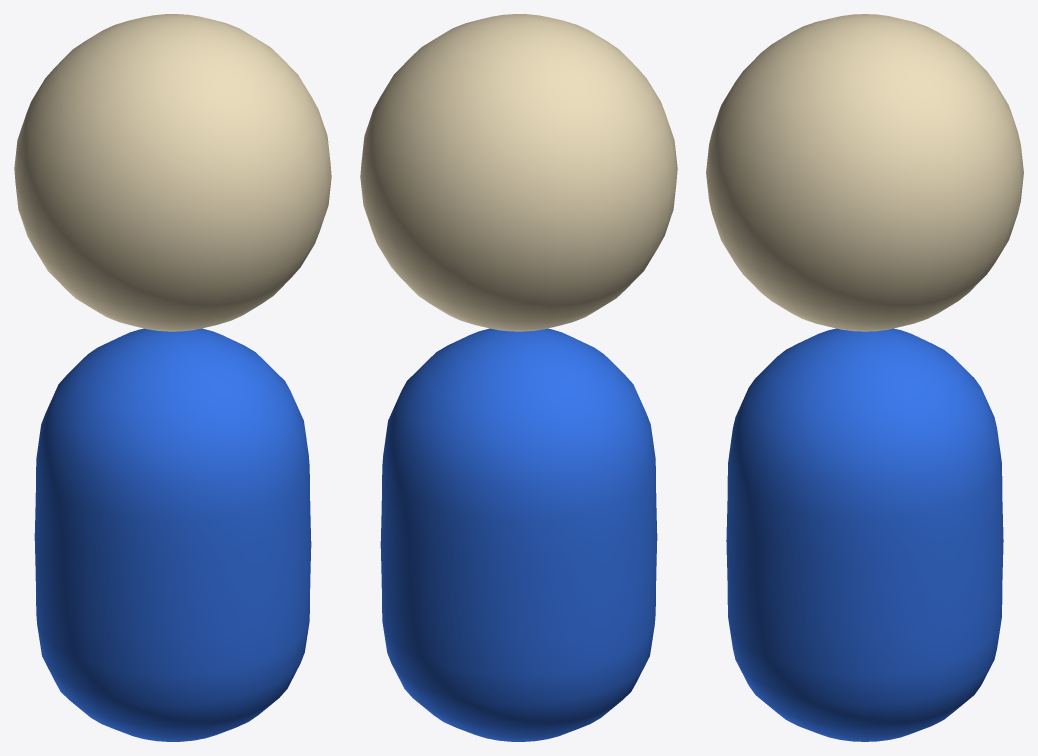
Rendered from Person-transformed.glb.
3 renders of one model, left to right at view 1: azimuth 30°, elevation 25°; view 2: azimuth 150°, elevation 25°; view 3: azimuth 270°, elevation 25°, orthographic.
Parts seen in each view (by area): view 1: Dude; view 2: Dude; view 3: Dude.
Part boxes in pixels (x1=…): Dude: x1=14, y1=14, x2=331, y2=741; Dude: x1=360, y1=14, x2=677, y2=741; Dude: x1=706, y1=14, x2=1023, y2=741.
Size of the model in its own units: 0.9925 by 2.41 by 0.9925.
